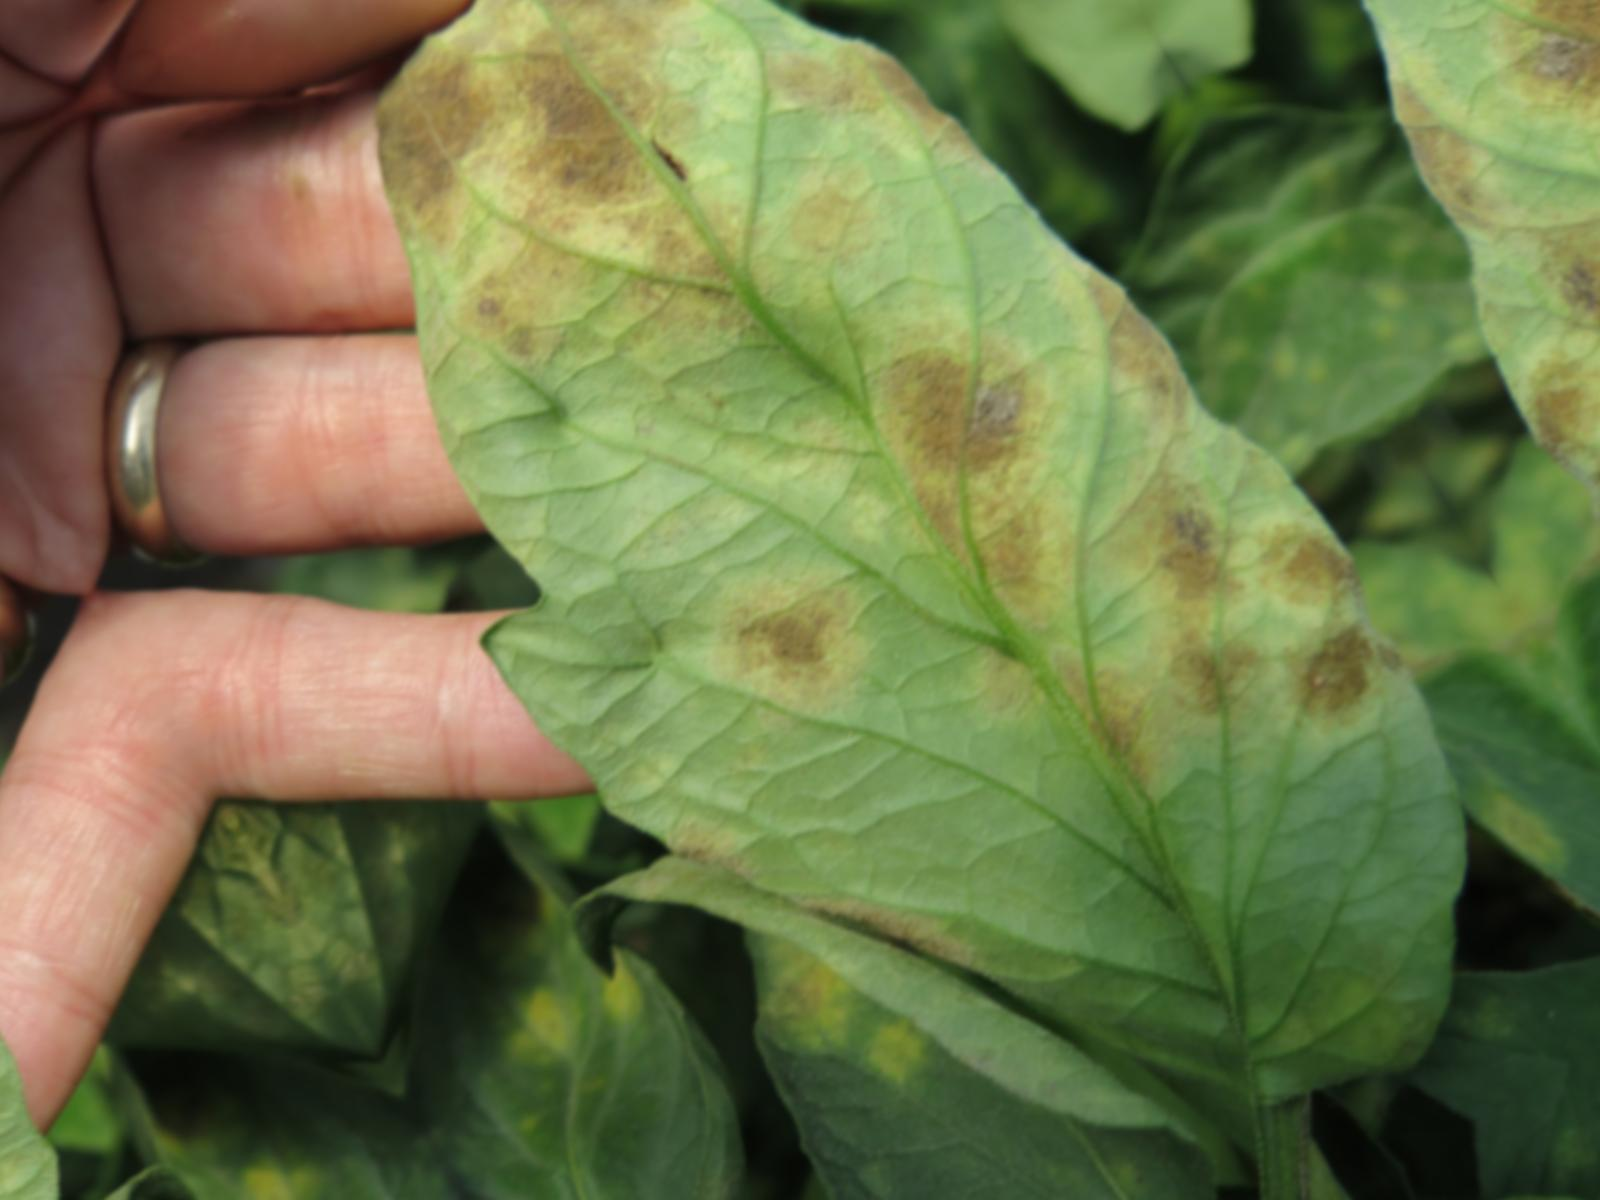Tomato mold leaf: (146, 0, 1600, 1200)
